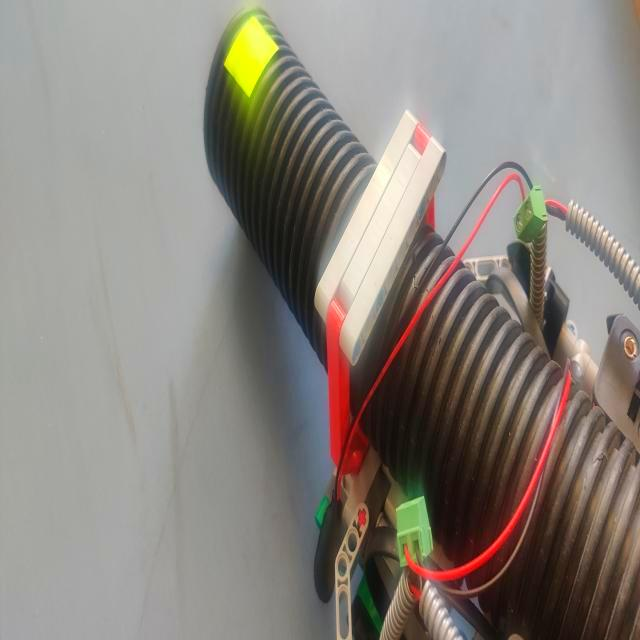robot-front: (207, 9, 366, 328)
